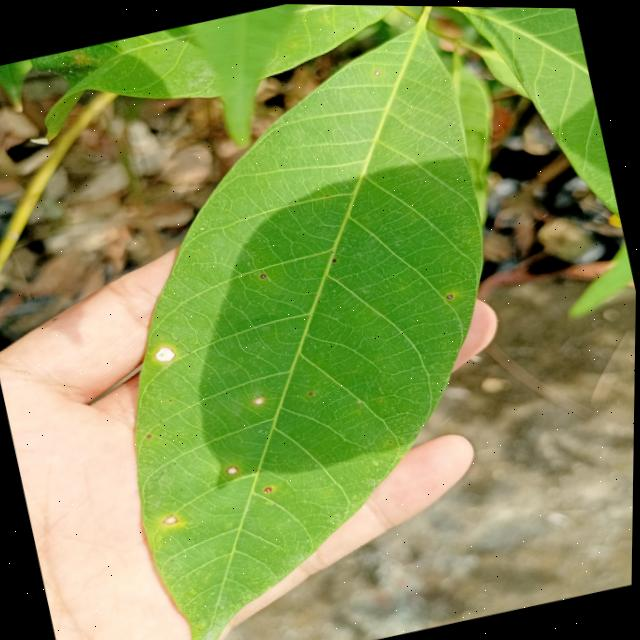Colletotrichum: (153, 343, 178, 364), (164, 513, 179, 524), (228, 464, 241, 474), (253, 395, 266, 405), (265, 485, 274, 492), (260, 272, 267, 278), (447, 292, 454, 297), (147, 433, 154, 438), (309, 390, 315, 395)
